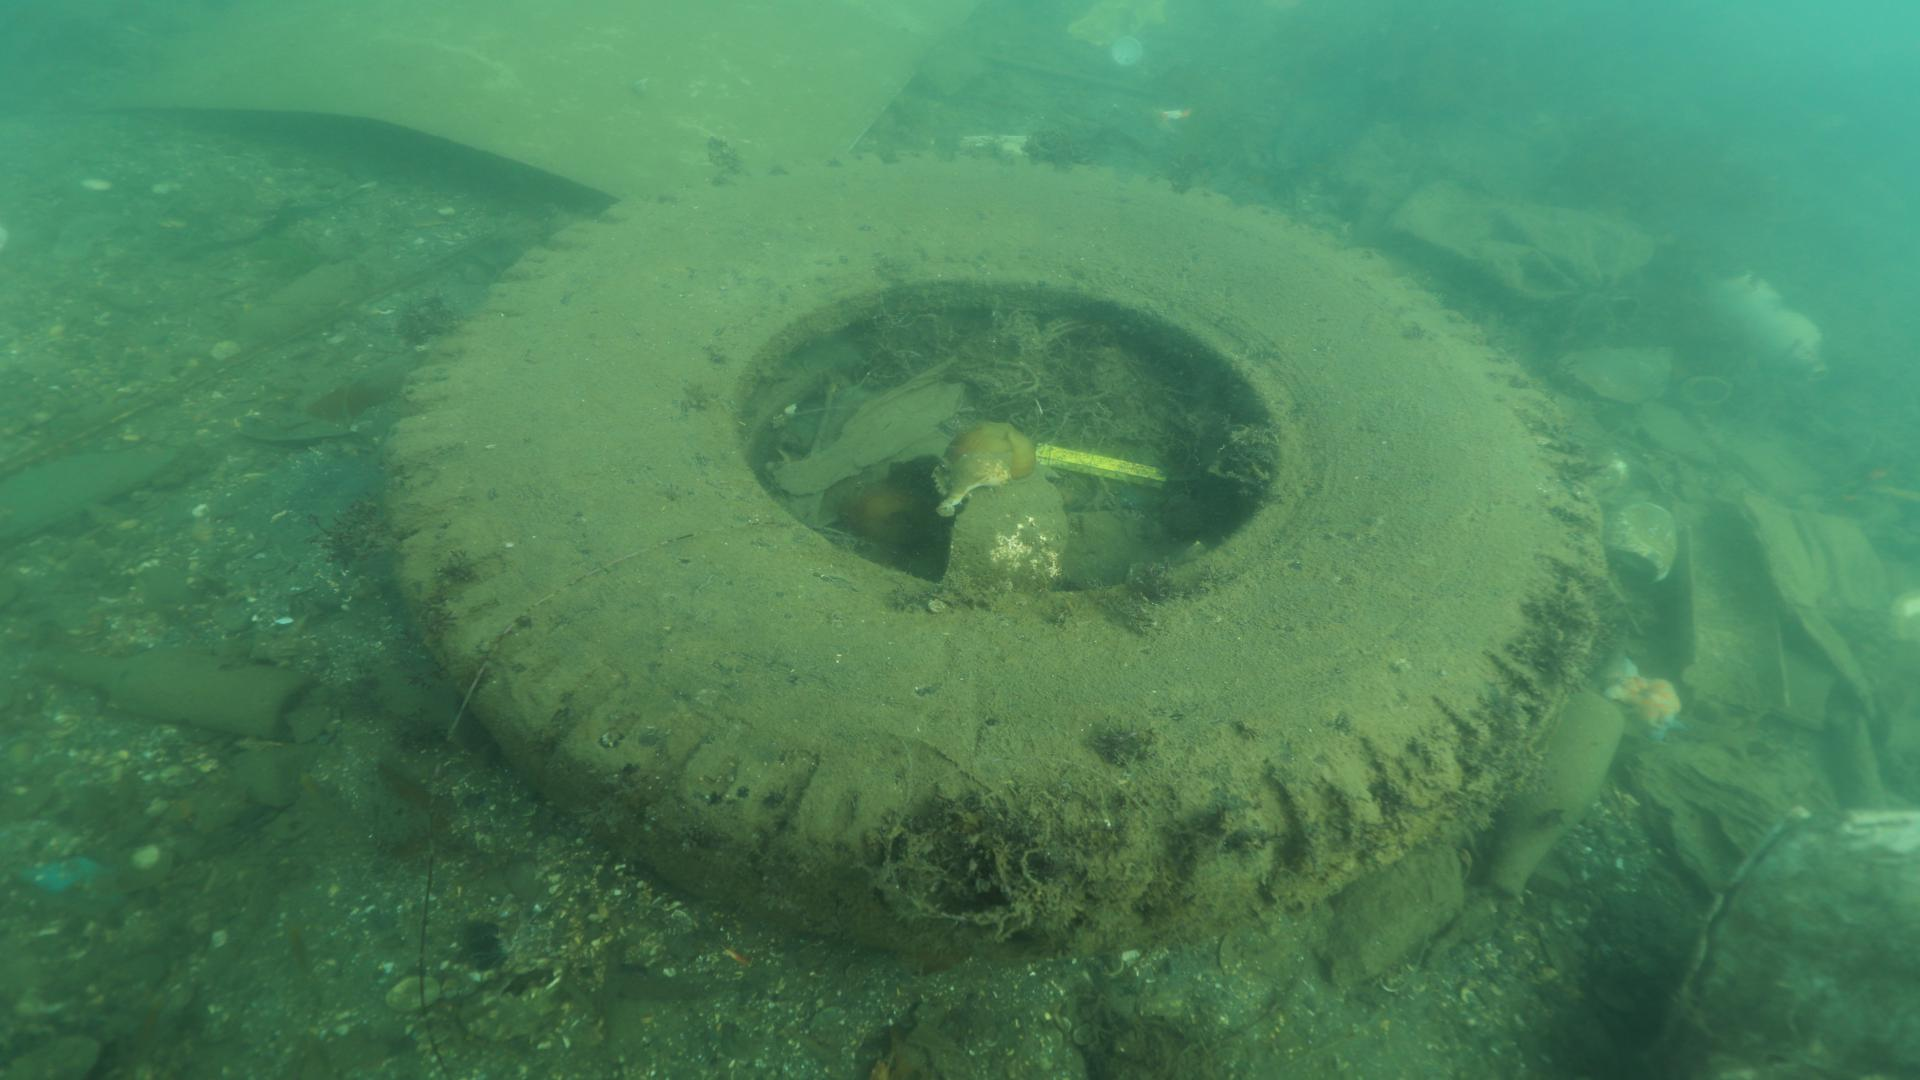tire: (386, 142, 1609, 967)
